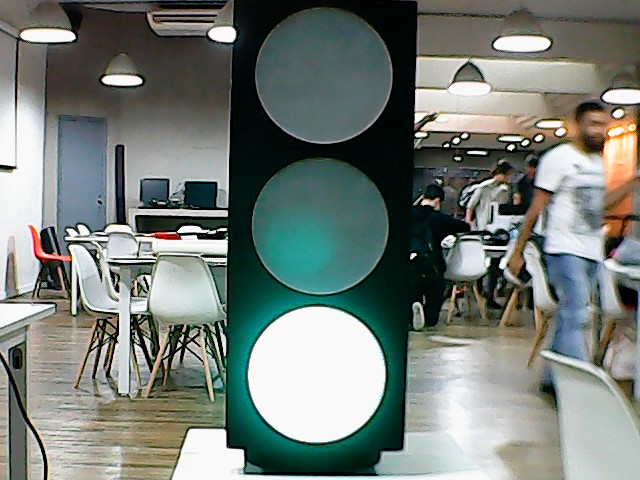verde: (218, 1, 420, 463)
